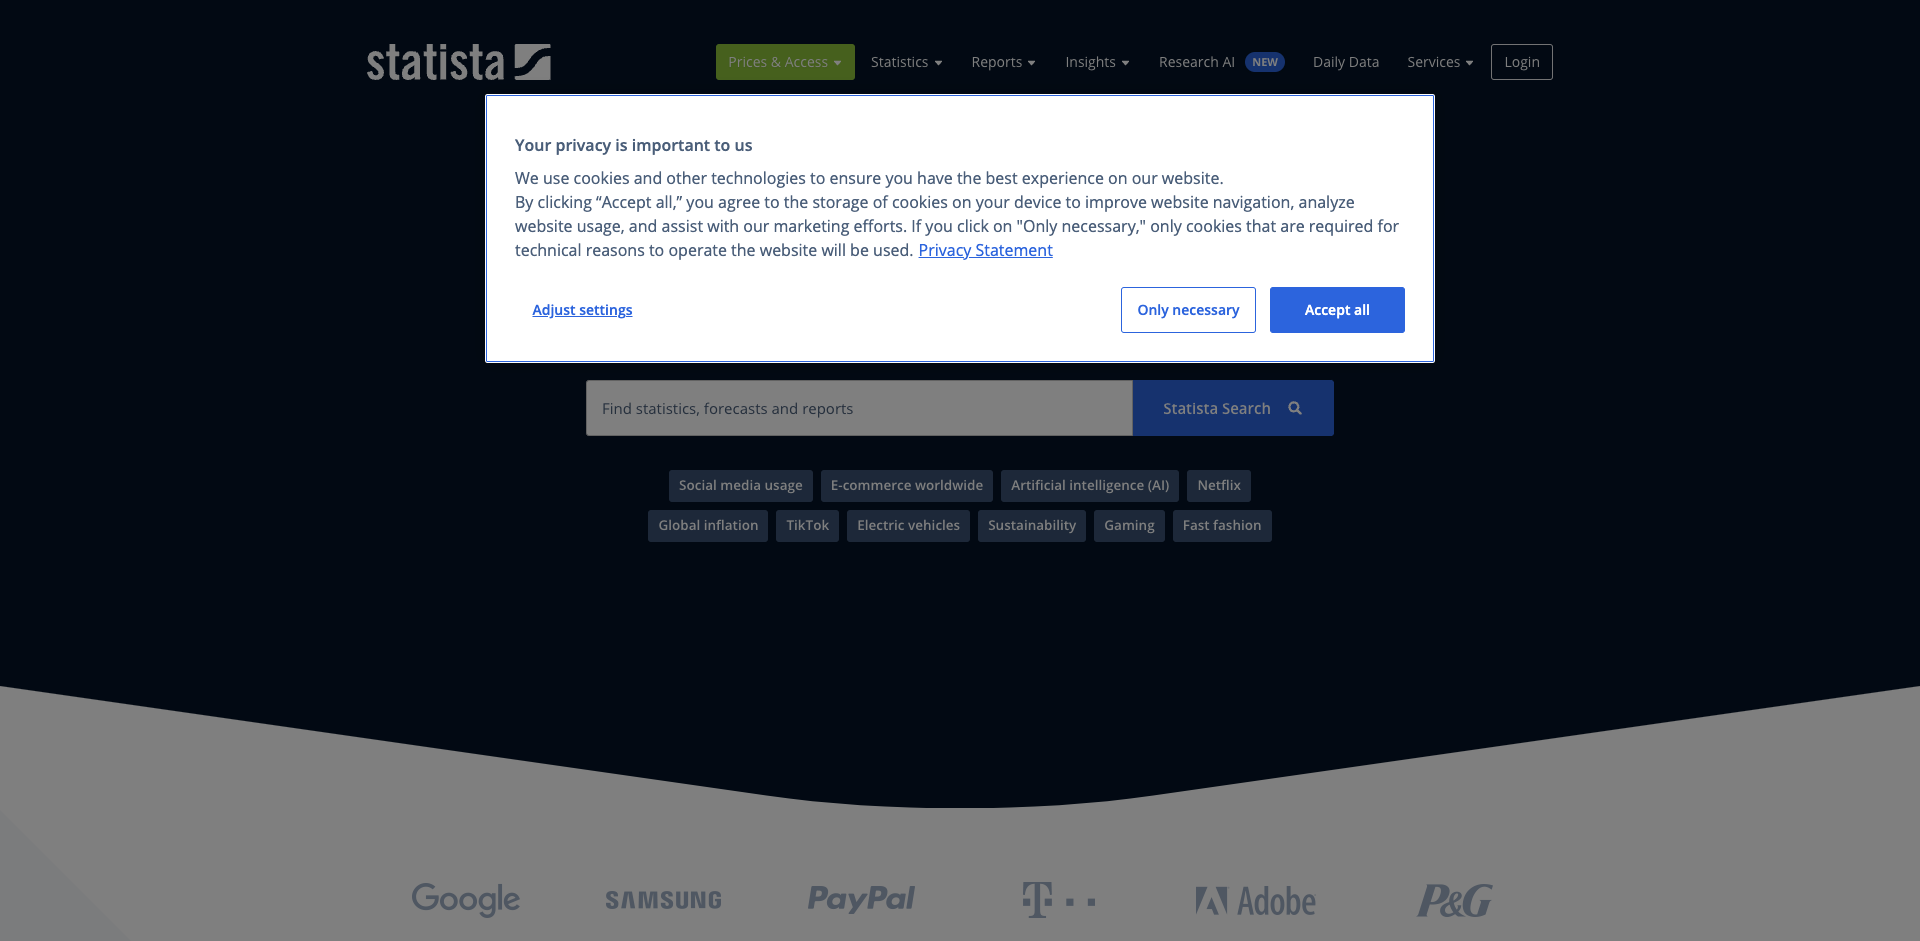button: (485, 272, 1435, 363), (1134, 380, 1333, 436), (1120, 288, 1256, 333), (1270, 288, 1404, 333), (516, 288, 650, 333), (1147, 44, 1297, 80), (716, 44, 855, 80), (860, 44, 955, 80), (1396, 44, 1488, 80), (1300, 44, 1391, 80), (960, 44, 1049, 80), (1053, 44, 1142, 80), (1491, 44, 1553, 80), (0, 2, 32, 25)
input: (587, 380, 1134, 436)
link: (367, 44, 551, 80), (1002, 470, 1179, 502), (820, 470, 993, 502), (669, 470, 813, 502), (847, 510, 970, 542), (649, 510, 769, 542), (978, 510, 1086, 542), (1173, 510, 1271, 542), (918, 239, 1053, 261), (1095, 510, 1164, 542), (1188, 470, 1251, 502), (776, 510, 839, 542)
